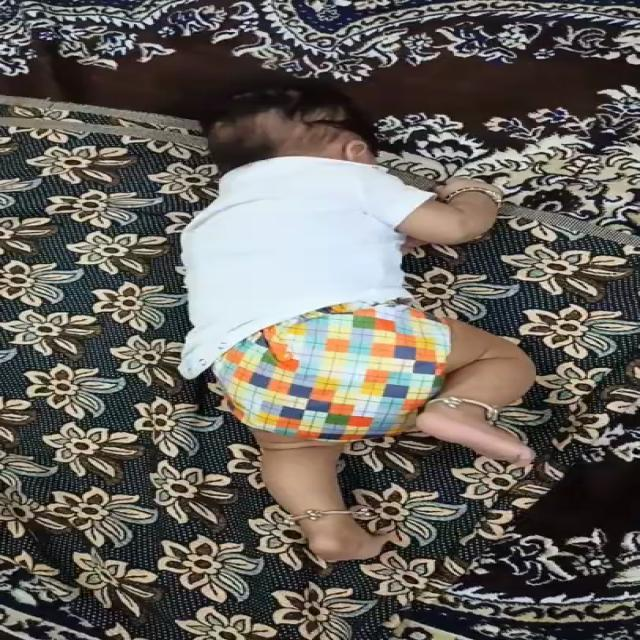baby: (161, 83, 569, 563)
